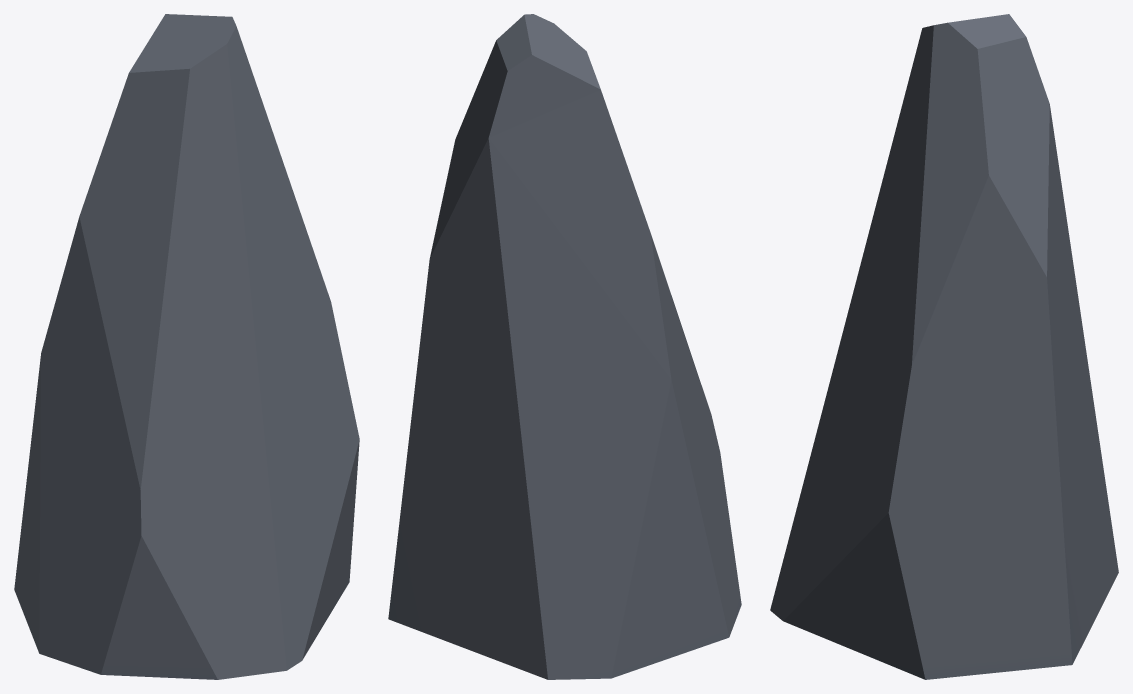
The model's file is Rock_Sharp_m_08.fbx.
3 views of the same model, side by side, from view 1: azimuth 30°, elevation 25°; view 2: azimuth 150°, elevation 25°; view 3: azimuth 270°, elevation 25° (orthographic). The views are drawn at different scales.
Visible parts, largest first — view 1: Rock_Sharp_m_08; view 2: Rock_Sharp_m_08; view 3: Rock_Sharp_m_08.
Boxes of the visible parts, <box> form: Rock_Sharp_m_08: <box>14,14,359,679</box>; Rock_Sharp_m_08: <box>388,14,741,679</box>; Rock_Sharp_m_08: <box>770,14,1118,679</box>.
Size of the model in its own units: 56.71 by 103 by 54.11.
